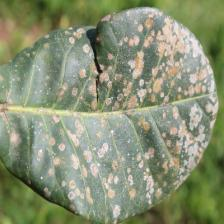red rust: (0, 6, 219, 224)
